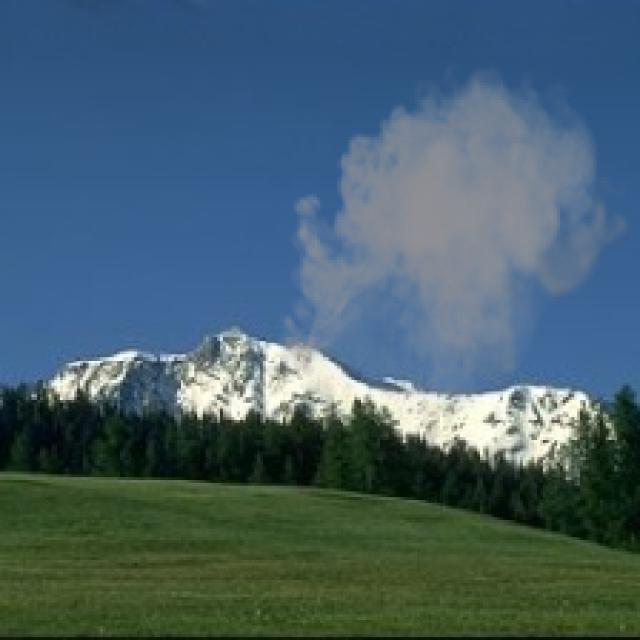Smoke: (272, 54, 632, 440)
